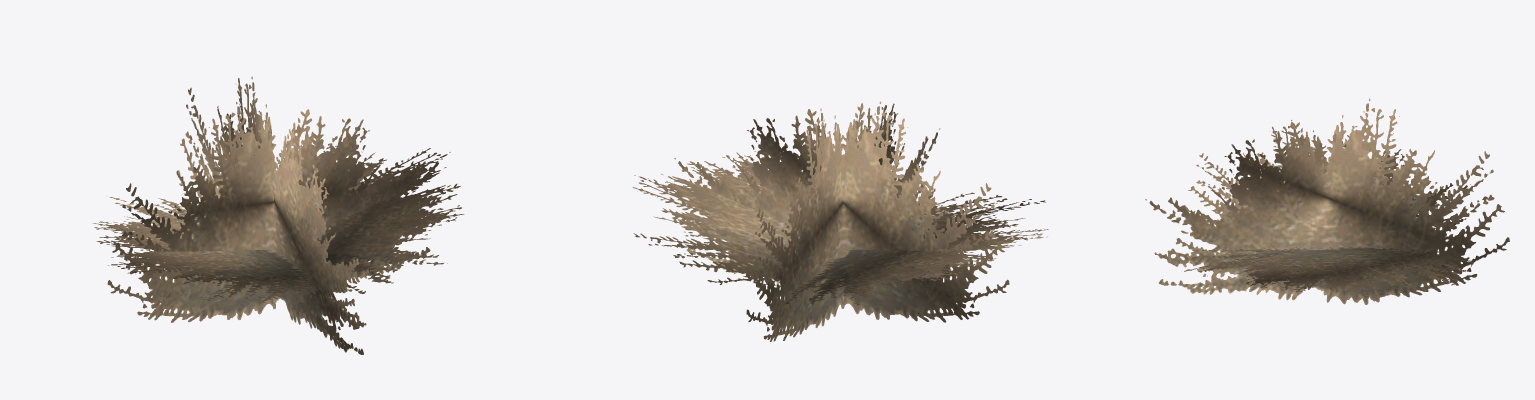
Rendered from shrb_dsrt_brown_l1.fbx.
3 renders of one model, left to right at view 1: azimuth 30°, elevation 25°; view 2: azimuth 150°, elevation 25°; view 3: azimuth 270°, elevation 25°, orthographic. The views are drawn at different scales.
Parts seen in each view (by area): view 1: mesh_node; view 2: mesh_node; view 3: mesh_node.
Boxes of the visible parts, left/top/right/bottom form: mesh_node: left=92, top=76, right=464, bottom=354; mesh_node: left=632, top=101, right=1048, bottom=341; mesh_node: left=1145, top=98, right=1509, bottom=304.
Size of the model in its own units: 2.74 by 1.53 by 2.54.
Materials: 1 (1 with a texture image).
